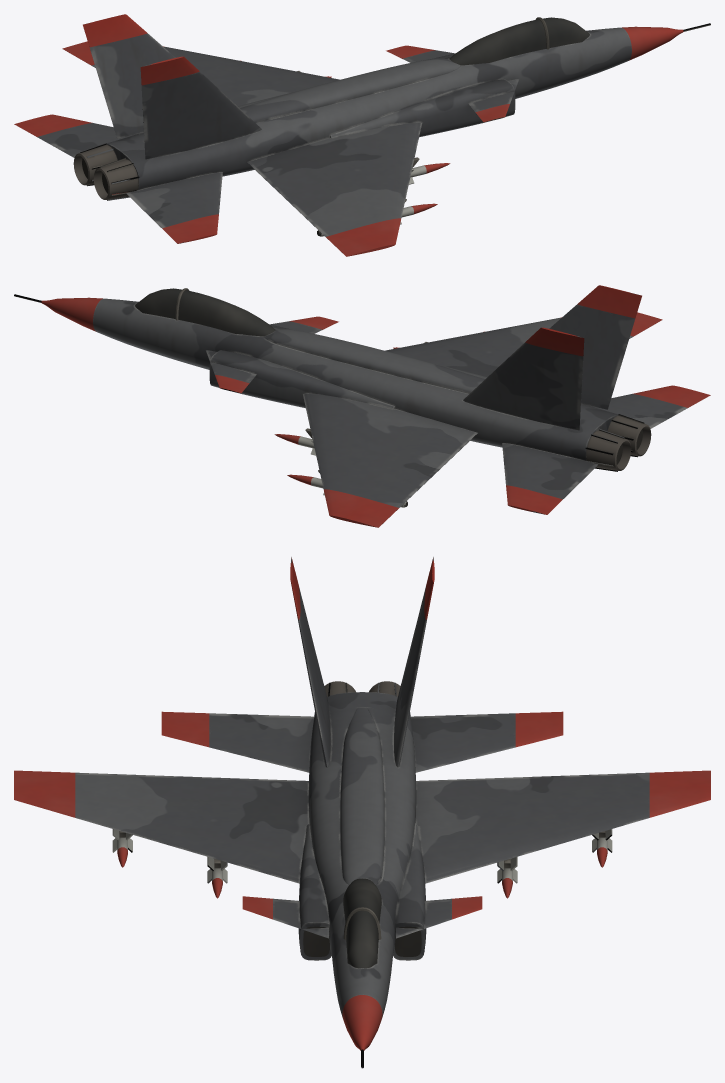
Rendered from fh_battle_e_interceptor.glb.
The picture shows the model from 3 angles, top to bottom: view 1: azimuth 30°, elevation 25°; view 2: azimuth 150°, elevation 25°; view 3: azimuth 270°, elevation 25°; orthographic projection. The views are drawn at different scales.
Visible parts, largest first — view 1: interceptor; view 2: interceptor; view 3: interceptor.
Boxes of the visible parts, bbox=[...] form: interceptor: bbox=[14, 14, 710, 256]; interceptor: bbox=[14, 285, 710, 527]; interceptor: bbox=[14, 557, 710, 1068].
Bounding box in the file's own units: 1 × 0.2319 × 0.7952.
Materials: 2 (2 with a texture image).
